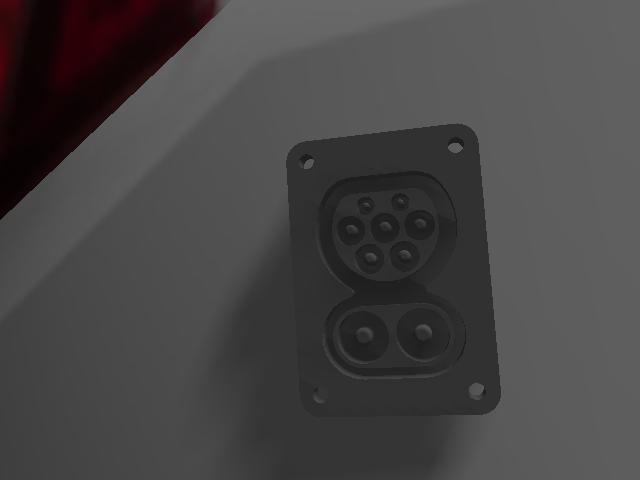EV-socket: (285, 124, 505, 421)
